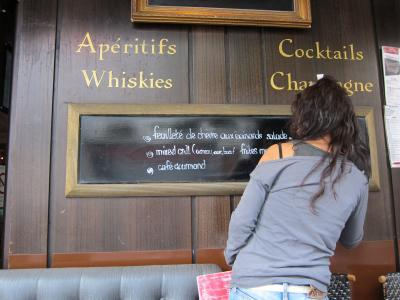person: (224, 77, 368, 300)
